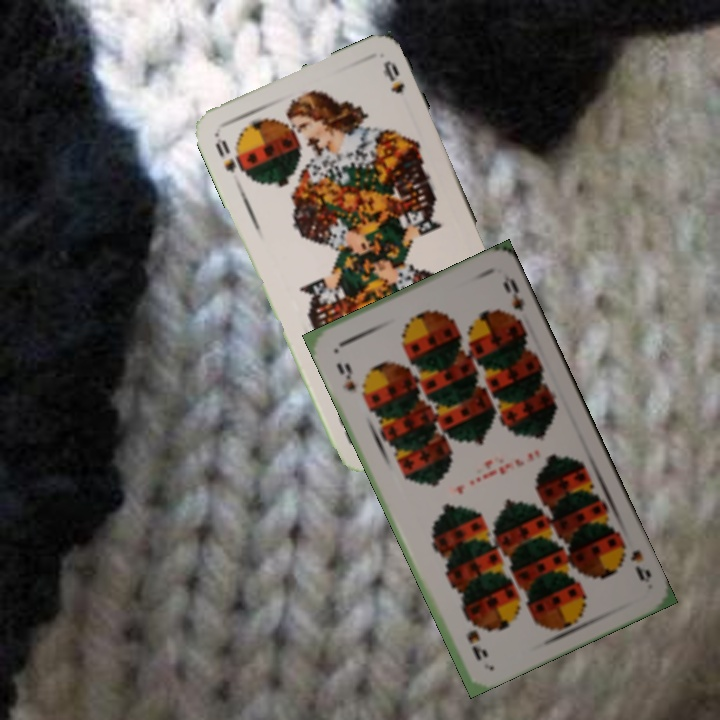S9: (613, 534, 654, 584), (332, 358, 359, 394)
SO: (211, 130, 246, 175)
